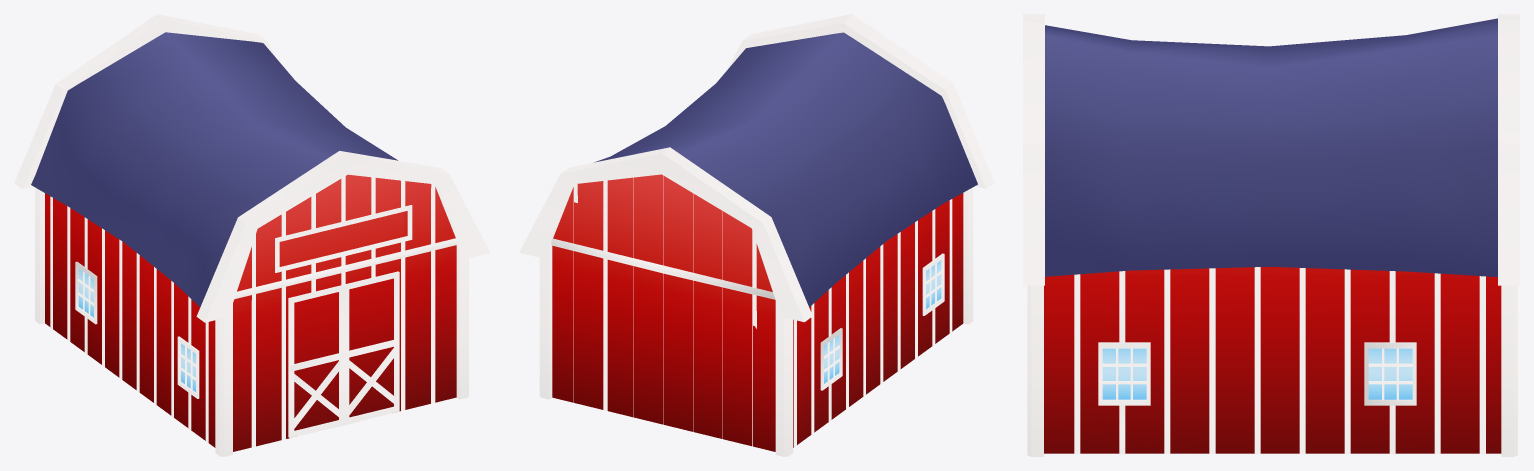
File: Barn.fbx
3 views of the same model, side by side, from view 1: azimuth 30°, elevation 25°; view 2: azimuth 150°, elevation 25°; view 3: azimuth 270°, elevation 25° (orthographic). The views are drawn at different scales.
Parts seen in each view (by area): view 1: Barn; view 2: Barn; view 3: Barn.
Part boxes in pixels (x1,y1,x2,y2): Barn: (14,14,490,456); Barn: (519,14,994,456); Barn: (1023,14,1519,456).
Size of the model in its own units: 943 by 867 by 1090.
